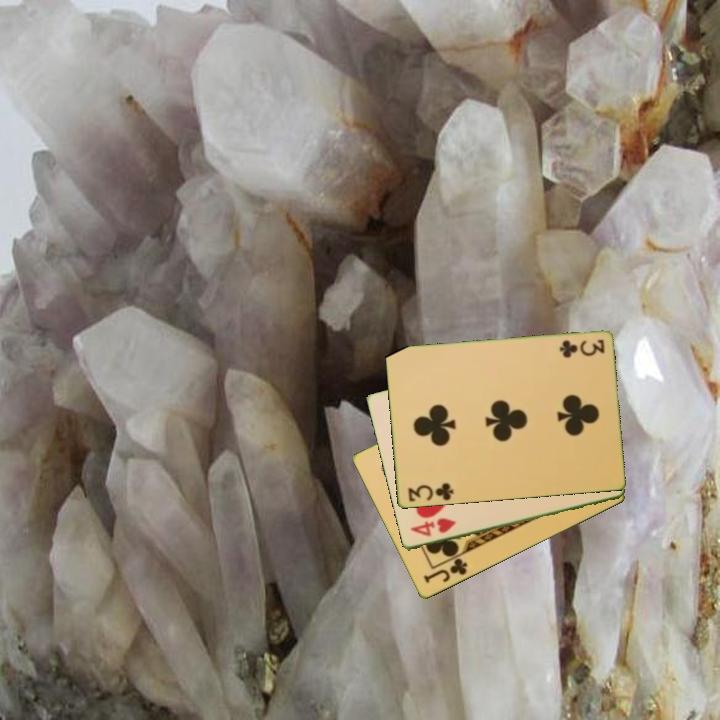3c: (404, 480, 456, 505), (555, 336, 607, 359)
4h: (406, 515, 458, 540)
Jc: (420, 555, 470, 587)
